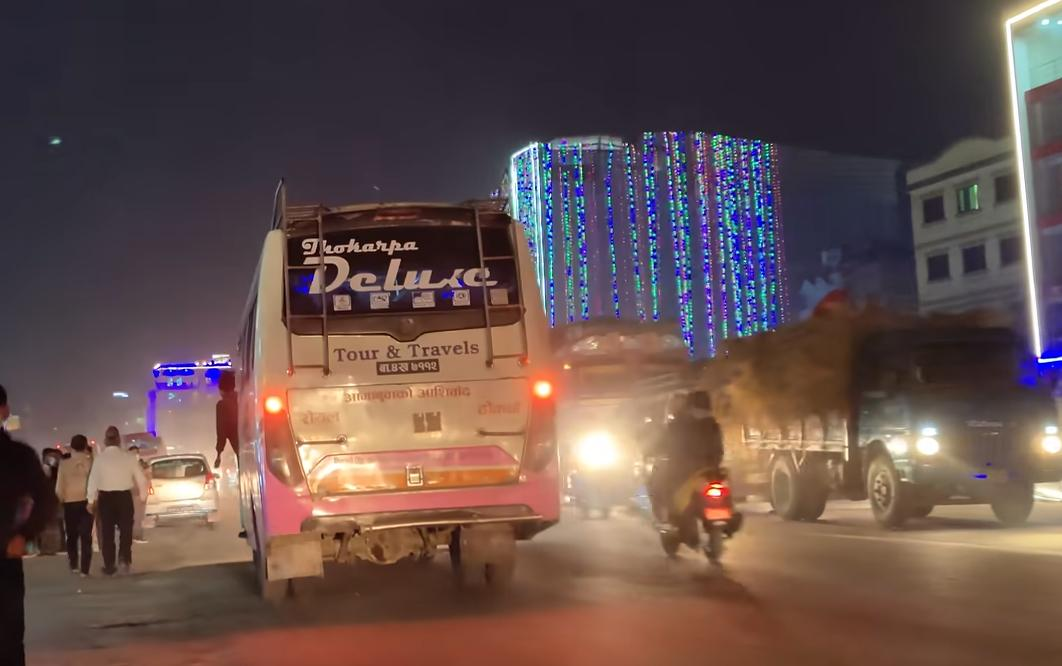bus: (238, 172, 567, 603)
mini_truck: (716, 290, 1052, 535)
